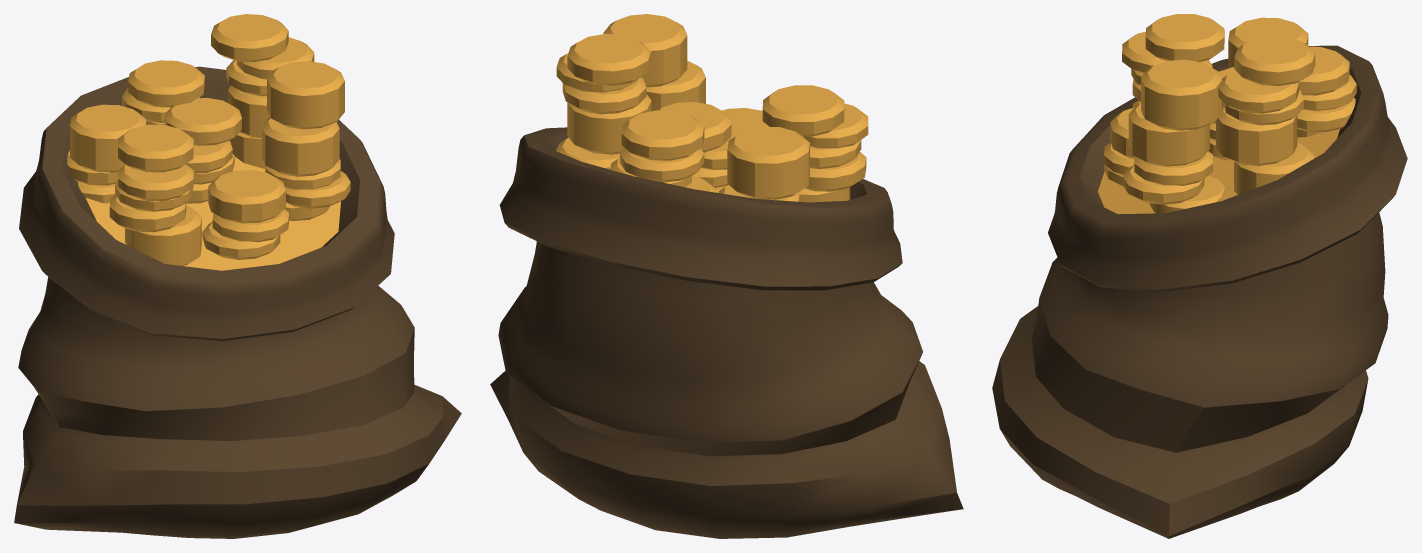
The model's file is gold_bag.glb.
The picture shows the model from 3 angles, left to right: view 1: azimuth 30°, elevation 25°; view 2: azimuth 150°, elevation 25°; view 3: azimuth 270°, elevation 25°; orthographic projection. The views are drawn at different scales.
Parts seen in each view (by area): view 1: Prop_GoldBag; view 2: Prop_GoldBag; view 3: Prop_GoldBag.
Boxes of the visible parts, bbox=[...] form: Prop_GoldBag: bbox=[14, 14, 461, 538]; Prop_GoldBag: bbox=[490, 14, 963, 538]; Prop_GoldBag: bbox=[992, 14, 1407, 538].
Size of the model in its own units: 0.5 by 0.4619 by 0.3894.
1 material, 1 textured.
